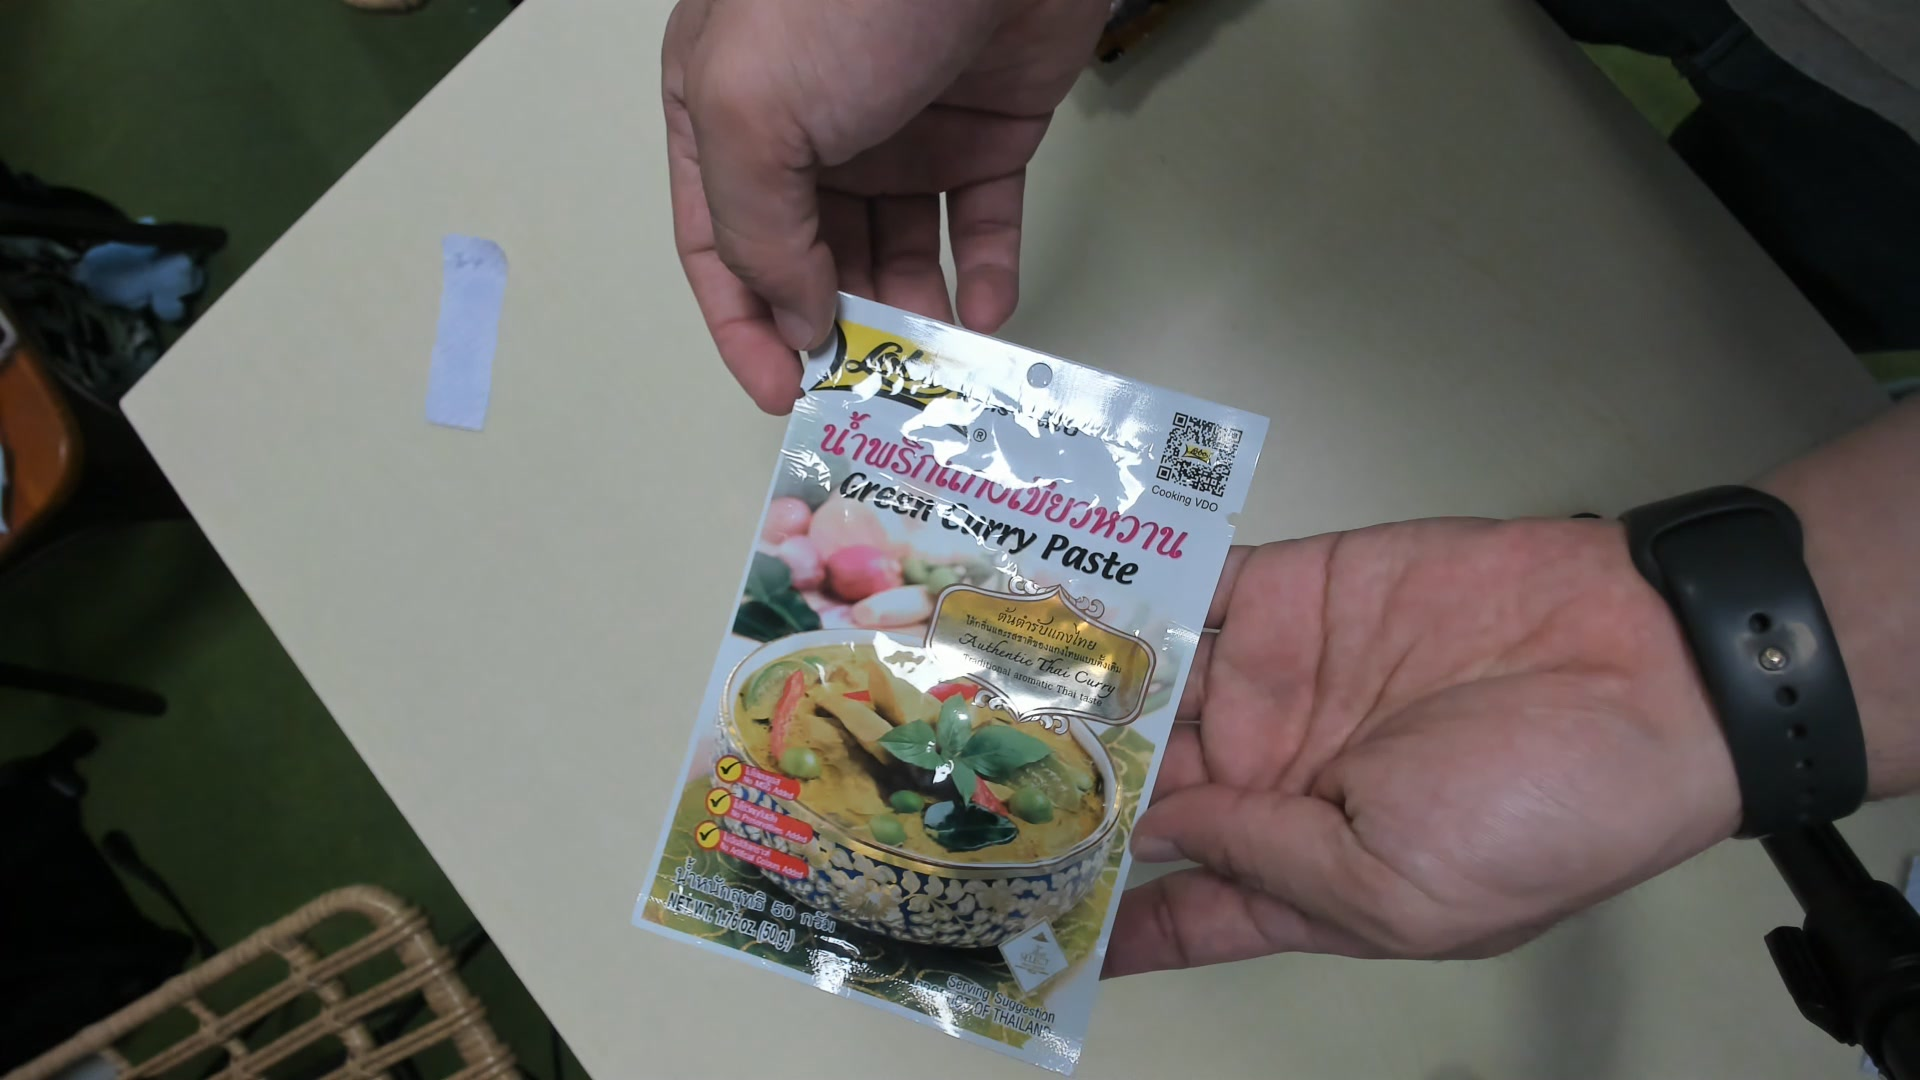OtherSauceDressing_0-99g_Halal_NonHealthy: (622, 284, 1271, 1077)
